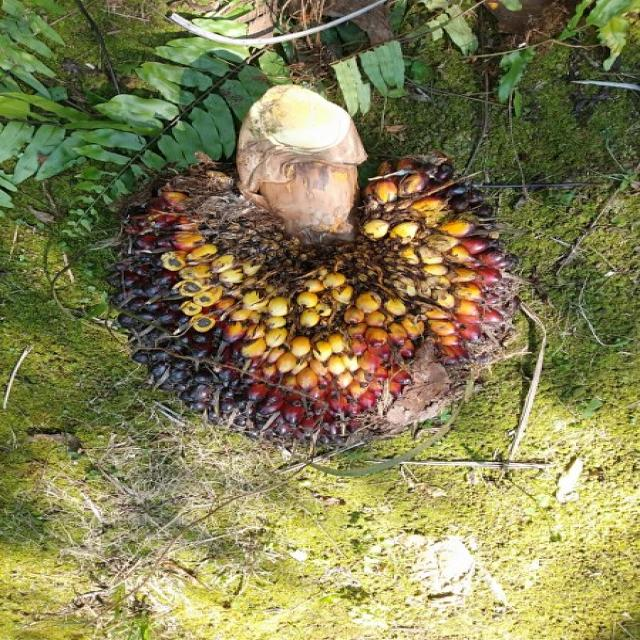fraksi 00: (100, 166, 526, 457)
